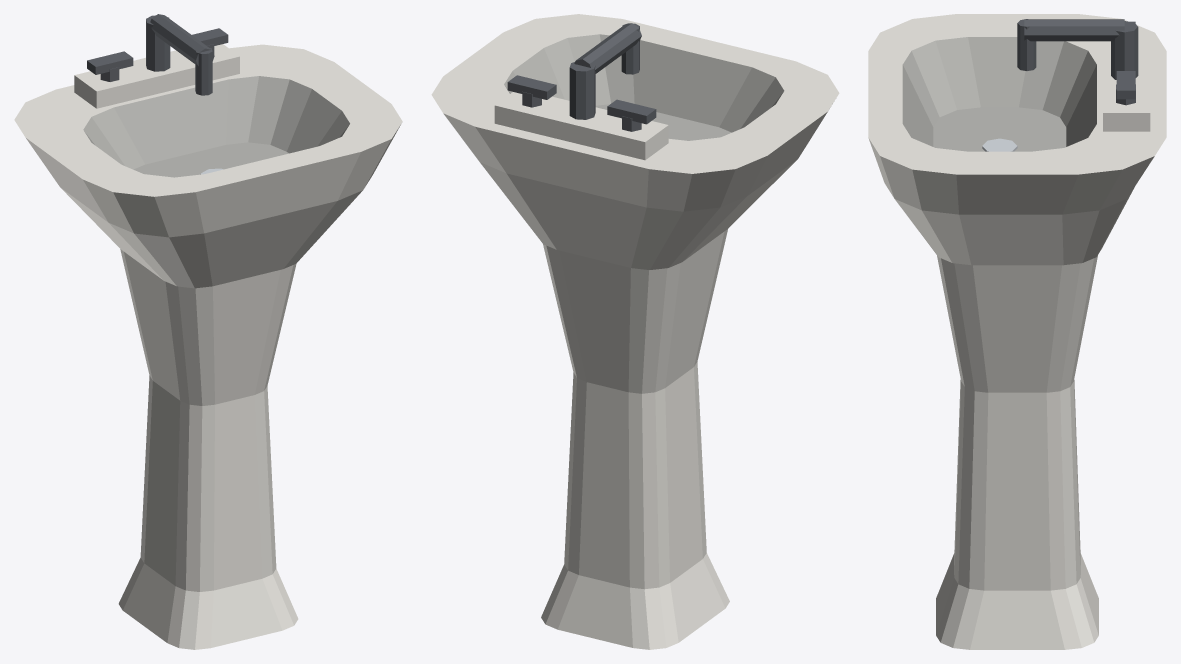
Rendered from FN_Basin_Pedestal.obj.
The picture shows the model from 3 angles, left to right: view 1: azimuth 30°, elevation 25°; view 2: azimuth 150°, elevation 25°; view 3: azimuth 270°, elevation 25°; orthographic projection. The views are drawn at different scales.
Visible parts, largest first — view 1: FN_Basin_Pedestal; view 2: FN_Basin_Pedestal; view 3: FN_Basin_Pedestal.
Part boxes in pixels (x1=…): FN_Basin_Pedestal: x1=14, y1=14, x2=402, y2=649; FN_Basin_Pedestal: x1=431, y1=14, x2=839, y2=649; FN_Basin_Pedestal: x1=868, y1=14, x2=1166, y2=649.
Bounding box in the file's own units: 0.56 × 0.971 × 0.44.
1 material, 1 textured.
